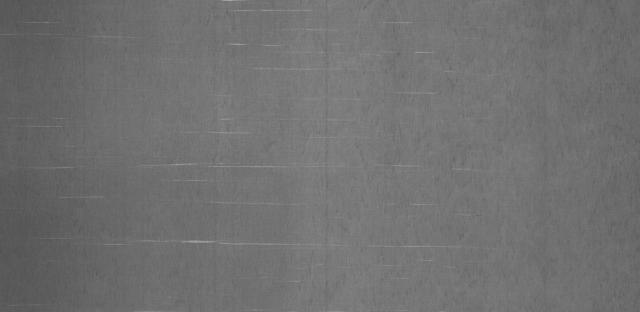waist_folding: (36, 39, 588, 277)
